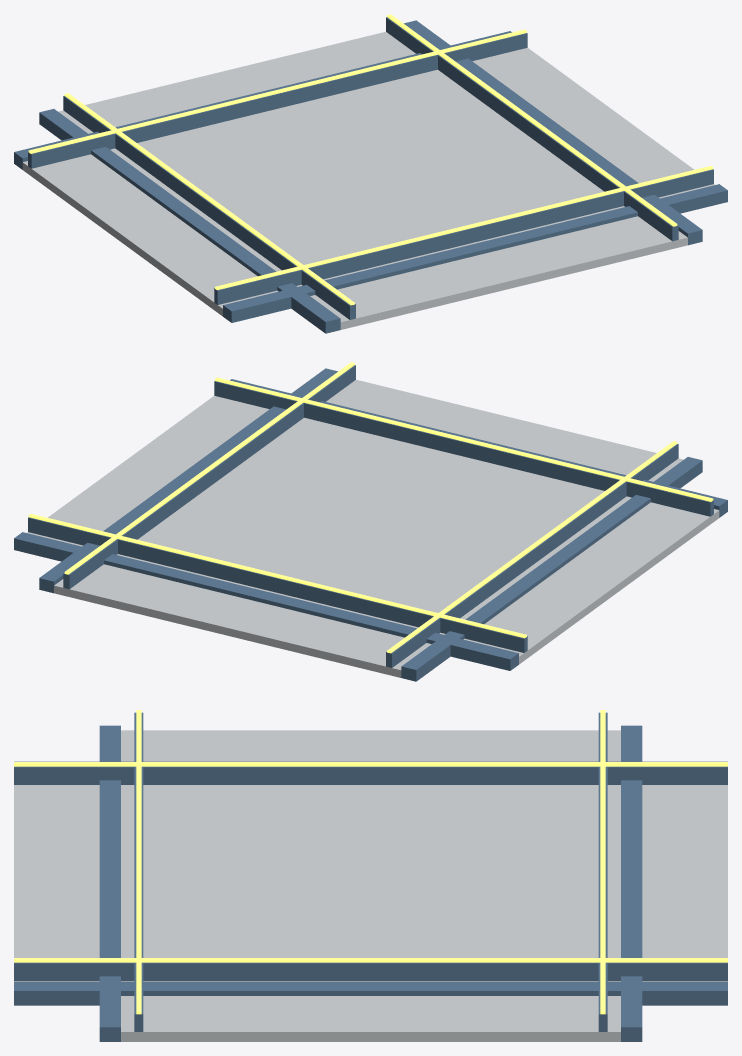
File: road_industrial_x_cross_lod1.glb
The picture shows the model from 3 angles, top to bottom: view 1: azimuth 30°, elevation 25°; view 2: azimuth 150°, elevation 25°; view 3: azimuth 270°, elevation 25°; orthographic projection. The views are drawn at different scales.
Parts seen in each view (by area): view 1: body; view 2: body; view 3: body.
Part boxes in pixels (<box>): body: <box>14,14,727,333</box>; body: <box>14,362,727,681</box>; body: <box>14,710,727,1041</box>.
Size of the model in its own units: 8 by 0.37 by 8.
